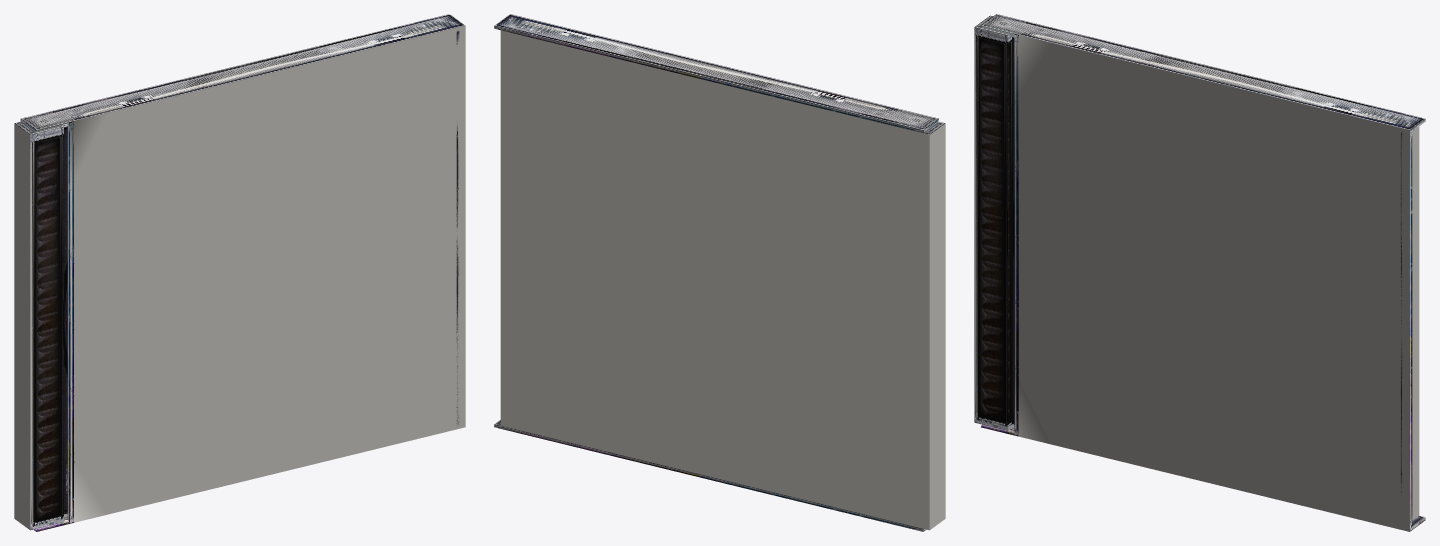
The model's file is jewel-case.glb.
3 renders of one model, left to right at view 1: azimuth 30°, elevation 25°; view 2: azimuth 150°, elevation 25°; view 3: azimuth 330°, elevation 25°, orthographic.
Parts seen in each view (by area): view 1: ntsc_case_front_01 - Default_0, ntsc_case_inner, ntsc_case_back; view 2: ntsc_case_back, ntsc_case_front_01 - Default_0; view 3: ntsc_case_front_01 - Default_0, ntsc_case_inner, ntsc_case_back.
Part boxes in pixels (x1=…): ntsc_case_front_01 - Default_0: x1=20, y1=14, x2=465, y2=531; ntsc_case_inner: x1=30, y1=123, x2=67, y2=530; ntsc_case_back: x1=14, y1=30, x2=459, y2=529; ntsc_case_back: x1=500, y1=30, x2=945, y2=530; ntsc_case_front_01 - Default_0: x1=494, y1=14, x2=938, y2=531; ntsc_case_front_01 - Default_0: x1=981, y1=14, x2=1425, y2=531; ntsc_case_inner: x1=974, y1=27, x2=1014, y2=430; ntsc_case_back: x1=974, y1=15, x2=1419, y2=520.
Bounding box in the file's own units: 0.1493 × 0.1316 × 0.00945.
4 materials, 4 textured.
